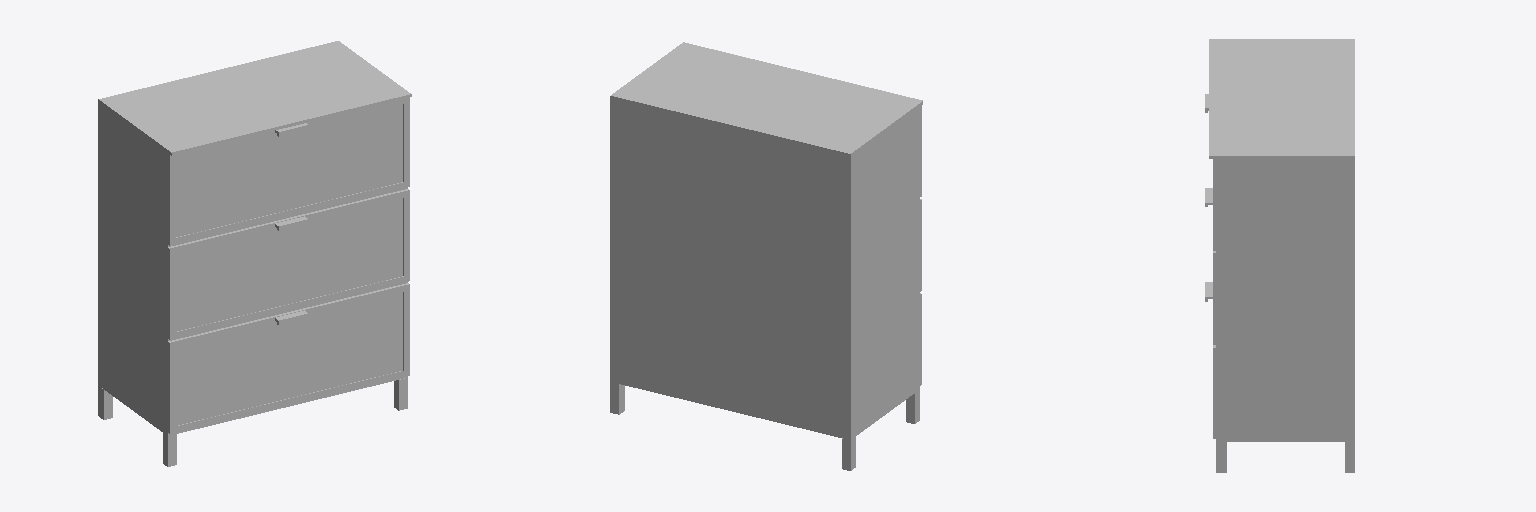
The model's file is IKEA-Aneboda_Chest_of_3_Drawers-3D.obj.
3 views of the same model, side by side, from view 1: azimuth 30°, elevation 25°; view 2: azimuth 150°, elevation 25°; view 3: azimuth 270°, elevation 25° (orthographic).
Visible parts, largest first — view 1: Layer_0; view 2: Layer_0; view 3: Layer_0.
Part boxes in pixels (bbox=[...]): Layer_0: bbox=[98, 41, 411, 466]; Layer_0: bbox=[610, 42, 922, 470]; Layer_0: bbox=[1205, 39, 1354, 472].
Size of the model in its own units: 800 by 1010 by 433.